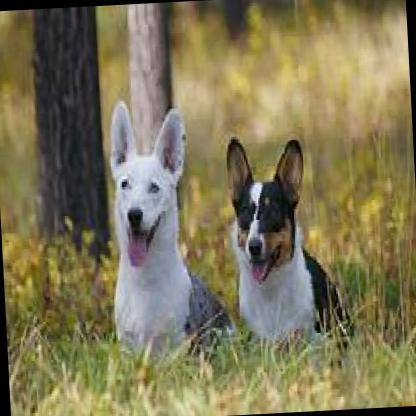Cardigan: (103, 90, 227, 340), (222, 126, 356, 344)
